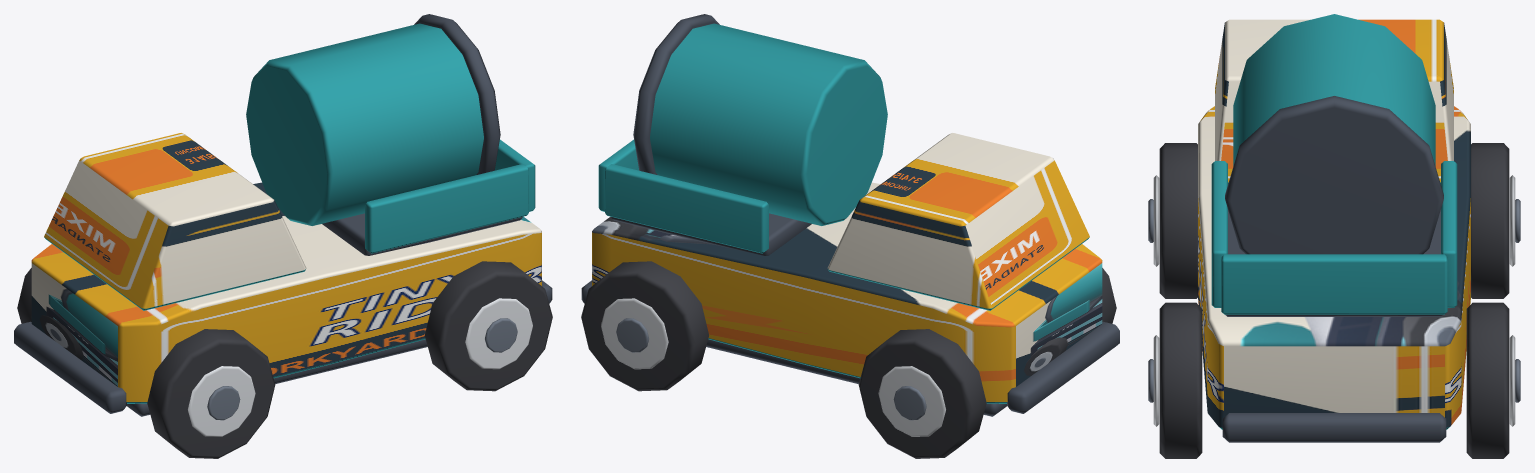
3 views of the same model, side by side, from view 1: azimuth 30°, elevation 25°; view 2: azimuth 150°, elevation 25°; view 3: azimuth 270°, elevation 25° (orthographic). The views are drawn at different scales.
Visible parts, largest first — view 1: WY-02_connected_shell, large mixing drum, WY-02_cabin, Tire, Tire.002, cargo side, front bumper, rear drum collar, Rim.002, Rim, cargo floor, underbody (+4 smaller); view 2: WY-02_connected_shell, large mixing drum, WY-02_cabin, Tire.001, Tire.003, cargo side.001, front bumper, rear drum collar, Rim.003, Rim.001, cargo floor, underbody (+4 smaller); view 3: WY-02_connected_shell, rear drum collar, large mixing drum, cargo tail, WY-02_cabin, Tire.002, Tire.003, rear bumper, Tire, Tire.001, cargo side, cargo side.001 (+5 smaller).
Boxes of the visible parts, left/top/right/bottom form: WY-02_connected_shell: left=31, top=182, right=541, bottom=403; large mixing drum: left=246, top=23, right=483, bottom=225; WY-02_cabin: left=44, top=133, right=306, bottom=310; Tire: left=147, top=329, right=275, bottom=458; Tire.002: left=425, top=261, right=552, bottom=391; cargo side: left=365, top=164, right=528, bottom=253; front bumper: left=14, top=321, right=126, bottom=413; rear drum collar: left=414, top=14, right=500, bottom=174; Rim.002: left=465, top=298, right=532, bottom=369; Rim: left=188, top=366, right=255, bottom=436; cargo floor: left=322, top=213, right=522, bottom=255; underbody: left=127, top=339, right=427, bottom=416; WY-02_connected_shell: left=592, top=182, right=1102, bottom=403; large mixing drum: left=650, top=23, right=887, bottom=225; WY-02_cabin: left=827, top=133, right=1089, bottom=310; Tire.001: left=858, top=329, right=986, bottom=458; Tire.003: left=581, top=261, right=708, bottom=391; cargo side.001: left=605, top=164, right=768, bottom=253; front bumper: left=1007, top=321, right=1119, bottom=413; rear drum collar: left=633, top=14, right=719, bottom=174; Rim.003: left=601, top=298, right=668, bottom=369; Rim.001: left=878, top=366, right=945, bottom=436; cargo floor: left=611, top=213, right=811, bottom=255; underbody: left=706, top=339, right=1006, bottom=416; WY-02_connected_shell: left=1198, top=106, right=1470, bottom=429; rear drum collar: left=1225, top=96, right=1443, bottom=254; large mixing drum: left=1233, top=14, right=1435, bottom=165; cargo tail: left=1221, top=254, right=1447, bottom=314; WY-02_cabin: left=1215, top=19, right=1453, bottom=183; Tire.002: left=1159, top=302, right=1202, bottom=458; Tire.003: left=1466, top=302, right=1509, bottom=458; rear bumper: left=1222, top=413, right=1446, bottom=442; Tire: left=1159, top=143, right=1197, bottom=298; Tire.001: left=1471, top=143, right=1509, bottom=298; cargo side: left=1211, top=161, right=1227, bottom=307; cargo side.001: left=1441, top=161, right=1457, bottom=307.
Bounding box in the file's own units: 374 × 249 × 228.
